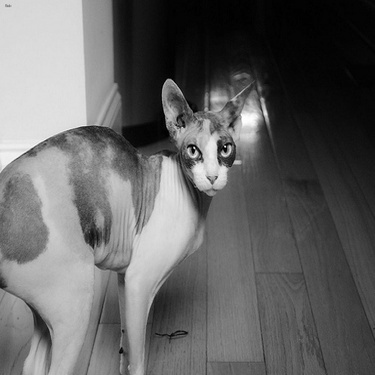cat: (1, 72, 256, 371)
